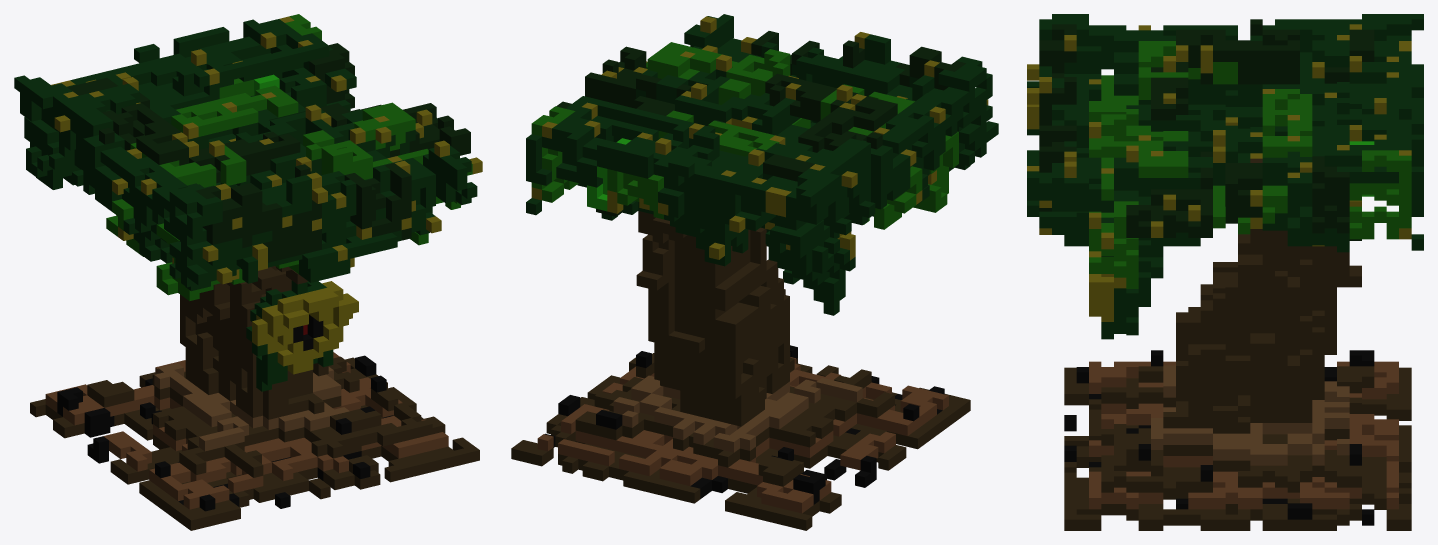
The model's file is Maria_Paula_Hernandez_Hernandez_fase_4.obj.
3 renders of one model, left to right at view 1: azimuth 30°, elevation 25°; view 2: azimuth 150°, elevation 25°; view 3: azimuth 270°, elevation 25°, orthographic. The views are drawn at different scales.
Parts seen in each view (by area): view 1: Maria_Paula_Hernandez_Hernandez_fase_4; view 2: Maria_Paula_Hernandez_Hernandez_fase_4; view 3: Maria_Paula_Hernandez_Hernandez_fase_4.
Part boxes in pixels (x1,y1,x2,y2): Maria_Paula_Hernandez_Hernandez_fase_4: (14, 14, 482, 530); Maria_Paula_Hernandez_Hernandez_fase_4: (511, 14, 998, 530); Maria_Paula_Hernandez_Hernandez_fase_4: (1027, 14, 1423, 530).
Bounding box in the file's own units: 32 × 32 × 32.
1 material, 1 textured.
